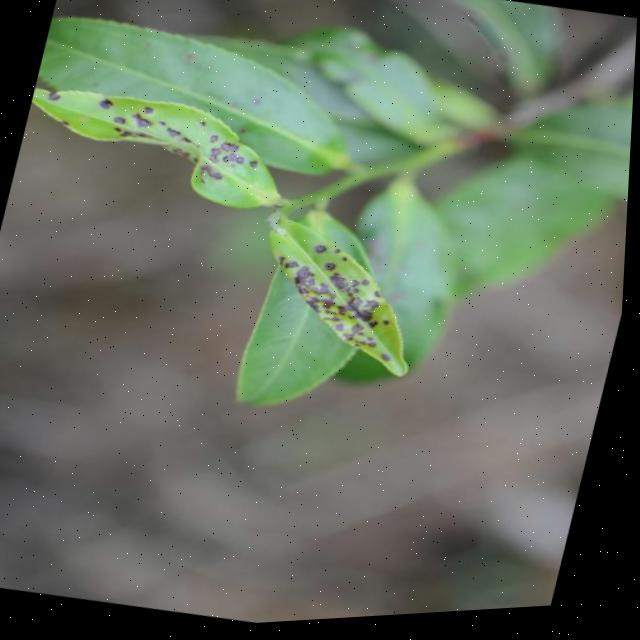Tea red scab: (57, 88, 289, 208), (254, 233, 422, 360)
